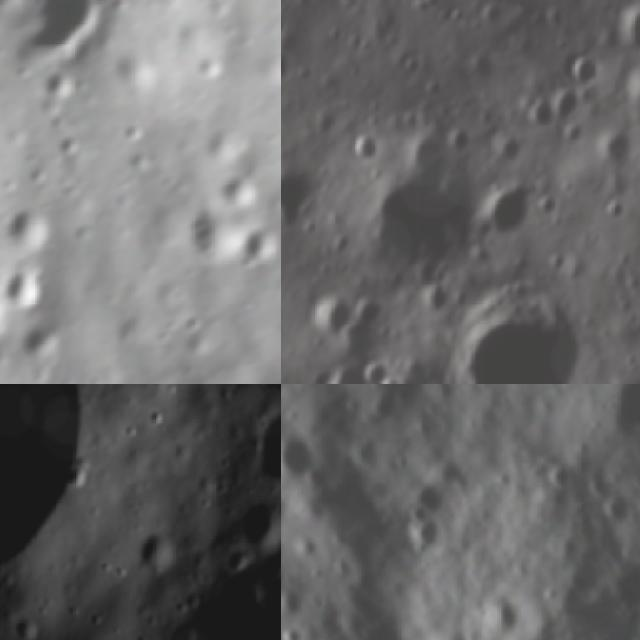crater: (352, 128, 490, 290), (0, 384, 109, 582), (440, 276, 586, 384), (159, 557, 281, 640), (21, 0, 108, 50), (402, 510, 462, 567), (481, 180, 538, 238), (475, 588, 538, 640), (240, 400, 281, 478), (235, 214, 281, 273), (2, 201, 54, 253), (281, 428, 322, 491), (308, 286, 357, 338), (591, 484, 640, 535), (237, 488, 281, 544), (281, 166, 315, 226), (1, 265, 44, 310), (15, 318, 61, 356), (281, 580, 314, 631), (354, 287, 392, 330), (598, 128, 636, 167), (216, 171, 257, 207), (422, 277, 455, 320), (42, 63, 76, 103), (347, 129, 384, 165), (614, 0, 640, 50), (566, 51, 604, 85), (318, 363, 375, 384), (526, 93, 560, 128), (600, 192, 634, 225), (446, 122, 480, 153), (500, 128, 530, 163), (467, 48, 496, 82), (281, 614, 315, 640), (538, 188, 565, 218), (361, 355, 388, 384), (546, 244, 571, 271), (556, 88, 581, 115), (562, 118, 589, 143), (482, 0, 508, 25), (624, 73, 640, 113), (281, 44, 295, 84), (281, 11, 293, 37), (381, 371, 403, 384)
